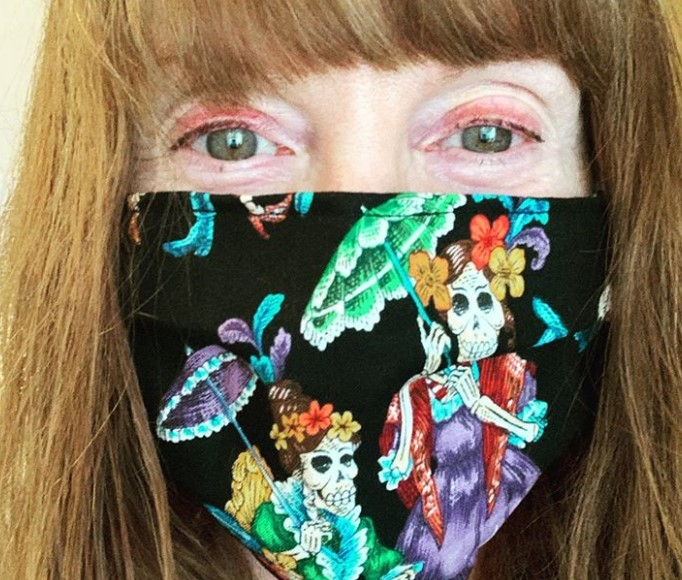face_with_mask: (120, 1, 638, 576)
